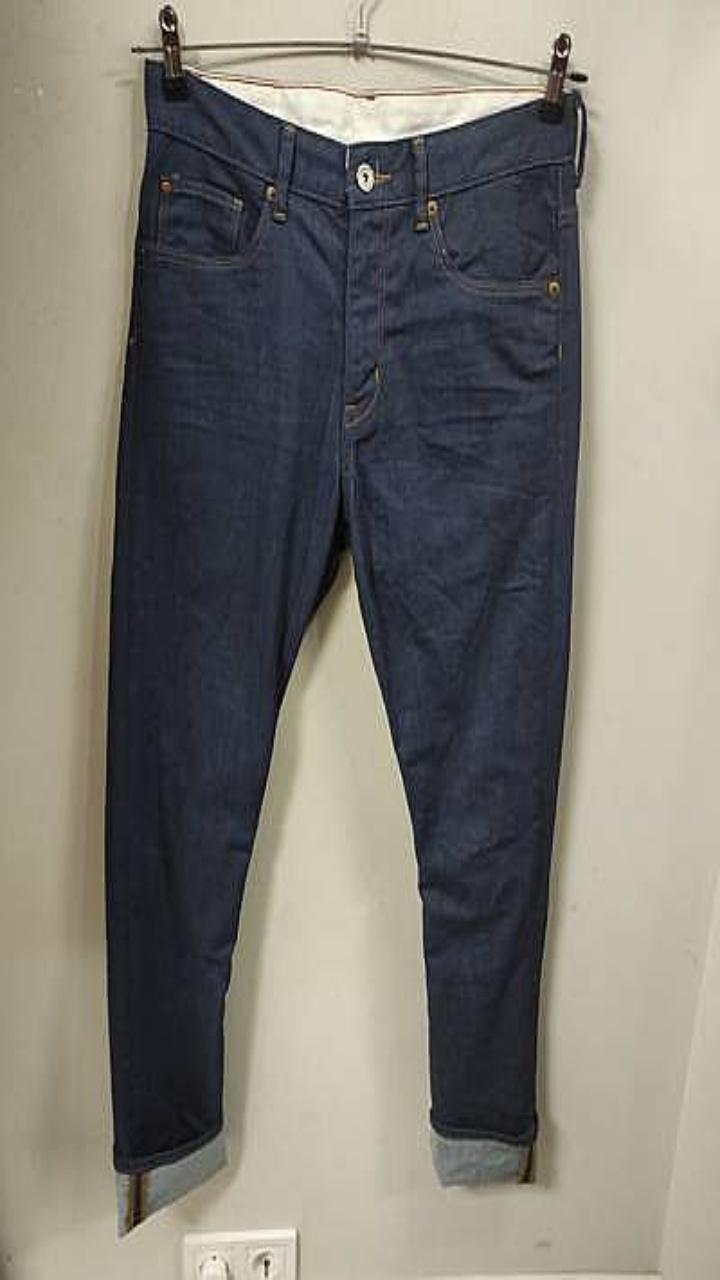Jeans: (105, 59, 585, 1234)
